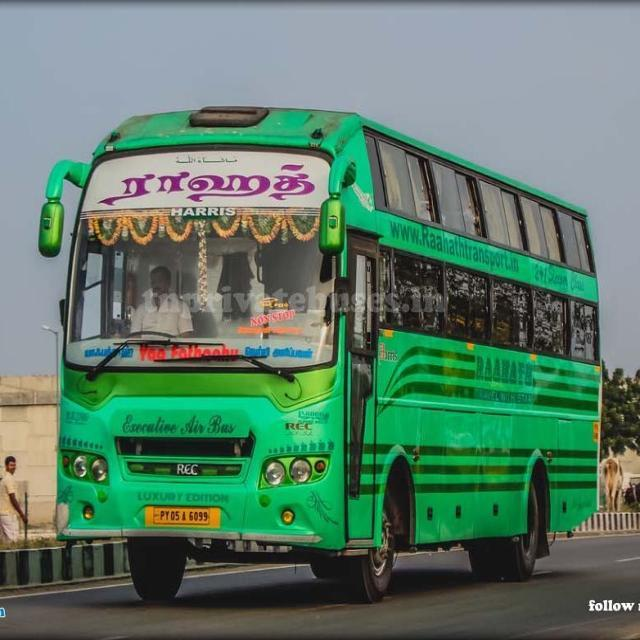Bus: (37, 103, 604, 606)
